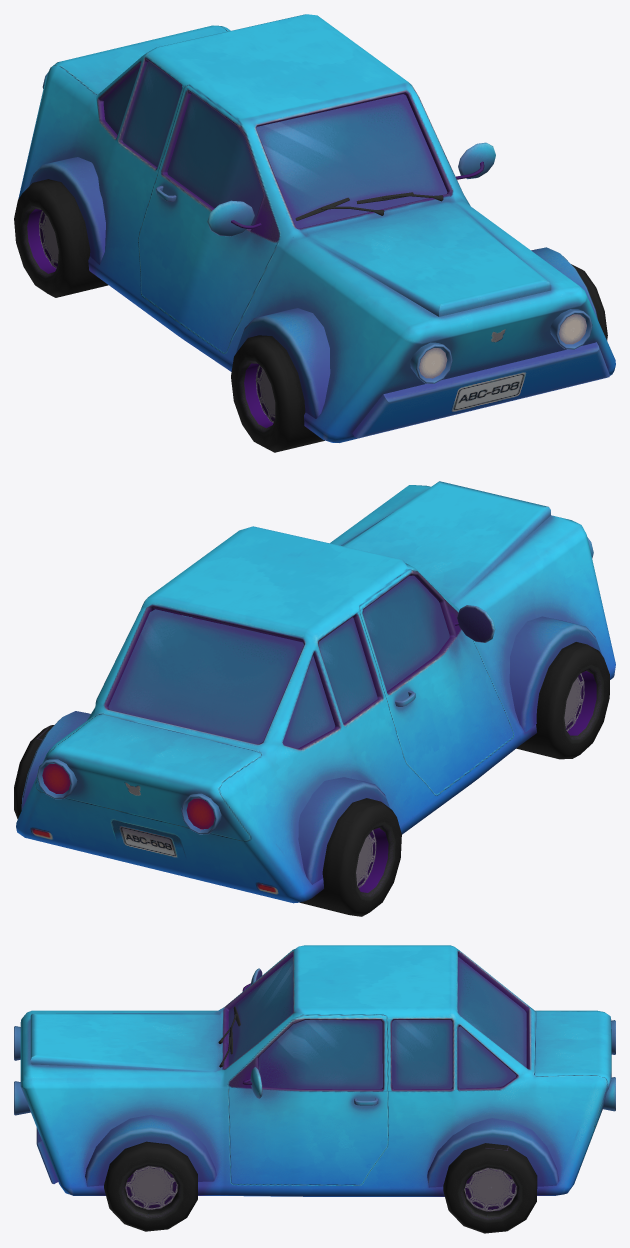
Rendered from Vehicle_BasicCar.fbx.
3 views of the same model, one above another, from view 1: azimuth 30°, elevation 25°; view 2: azimuth 150°, elevation 25°; view 3: azimuth 270°, elevation 25° (orthographic). The views are drawn at different scales.
Visible parts, largest first — view 1: Car, Wheel04, Wheel03, Wheel01; view 2: Car, Wheel04, Wheel03, Wheel02; view 3: Car, Wheel02, Wheel01.
Boxes of the visible parts, x1=… form: Car: x1=18, y1=14, x2=615, y2=442; Wheel04: x1=14, y1=179, x2=108, y2=297; Wheel03: x1=231, y1=335, x2=324, y2=452; Wheel01: x1=571, y1=264, x2=607, y2=340; Car: x1=16, y1=481, x2=615, y2=903; Wheel04: x1=299, y1=798, x2=401, y2=916; Wheel03: x1=516, y1=642, x2=609, y2=759; Wheel02: x1=14, y1=725, x2=53, y2=819; Car: x1=14, y1=945, x2=615, y2=1196; Wheel02: x1=443, y1=1143, x2=537, y2=1233; Wheel01: x1=104, y1=1141, x2=197, y2=1231.
Bounding box in the file's own units: 1.73 × 1.2 × 3.35.
Materials: 1 (1 with a texture image).
